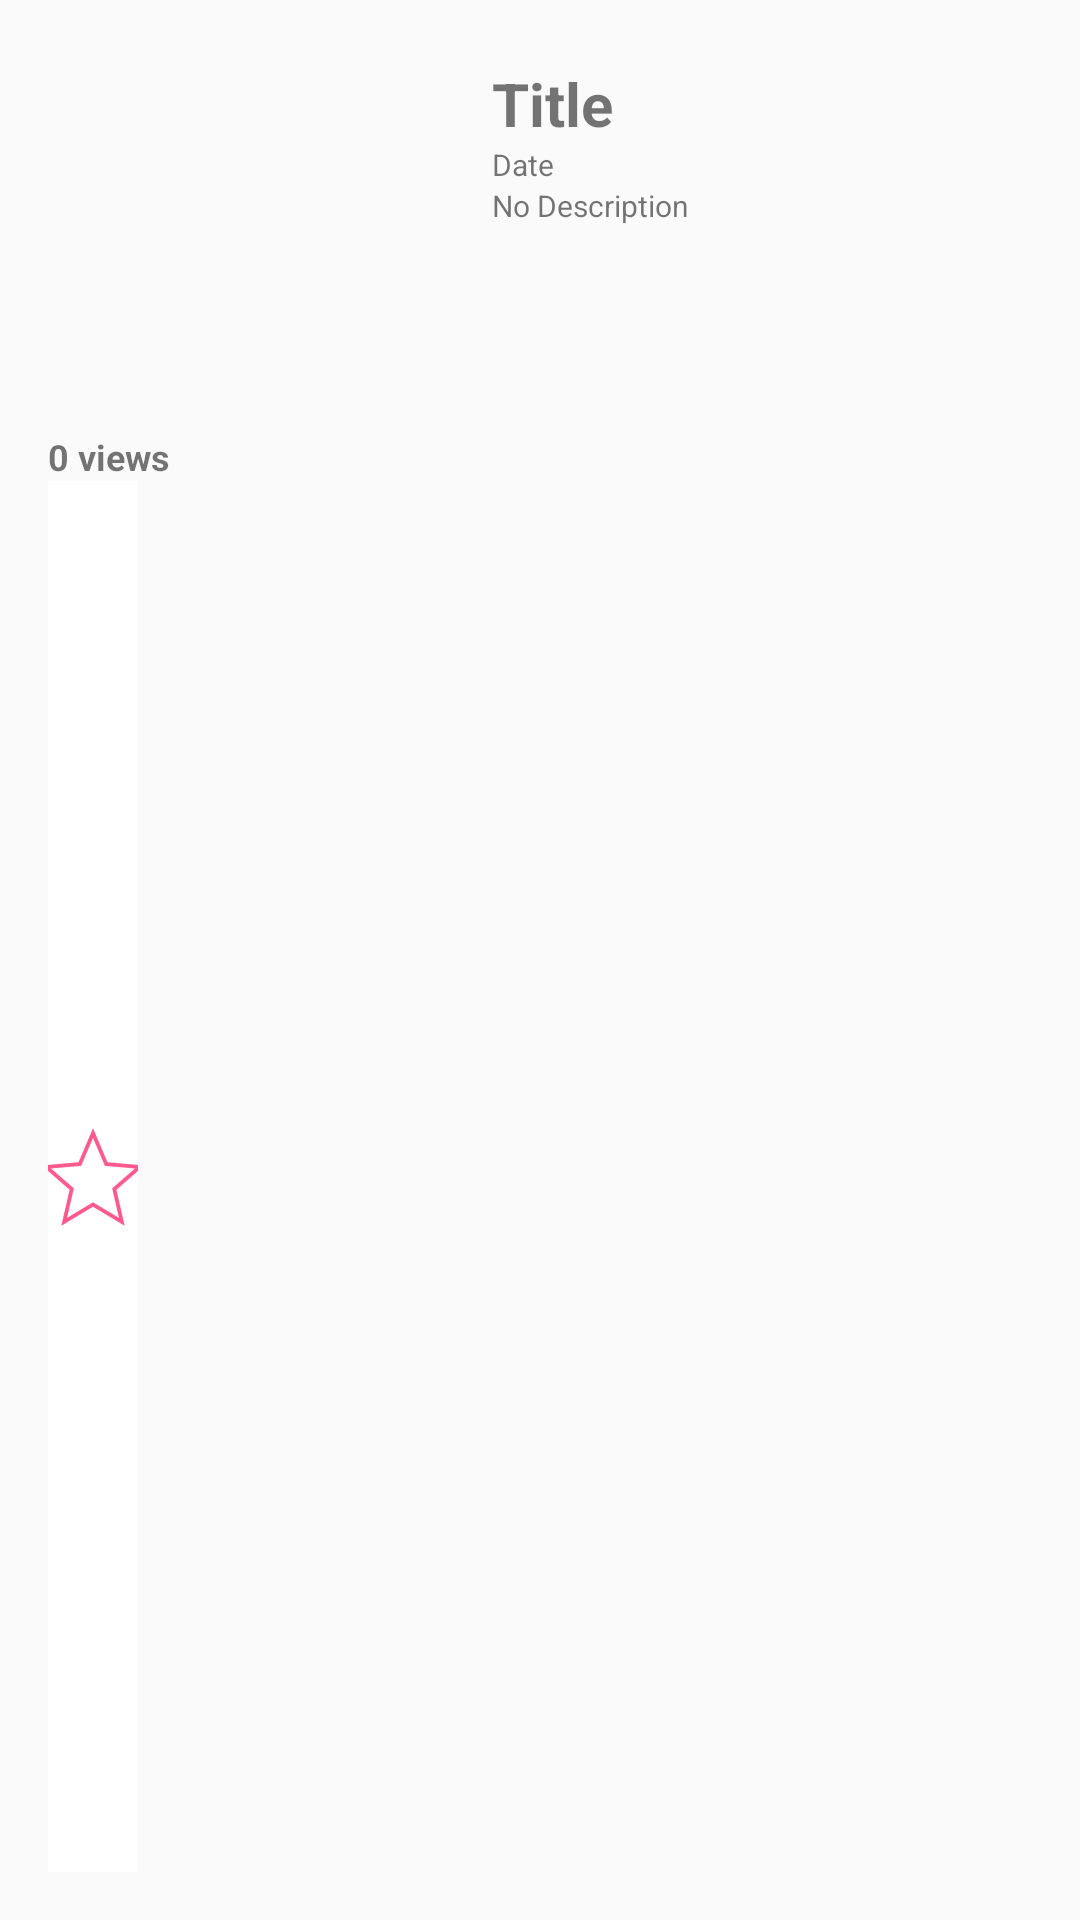

Screen size 1080 x 1920. Icon name, then its box in pixels as (x1, y1, x2, y2):
star unfilled: (48, 1129, 138, 1226)
